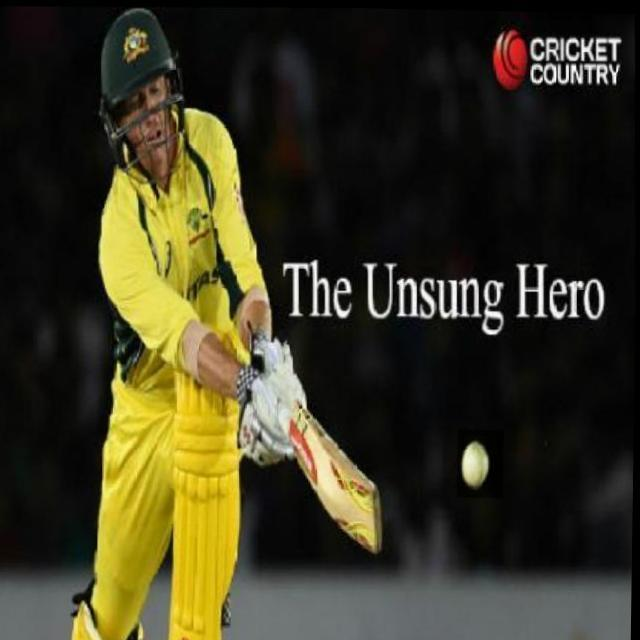-: (458, 427, 505, 496)
